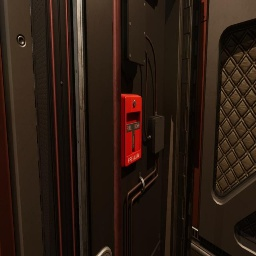FireAlarm ,: (121, 94, 142, 167)
